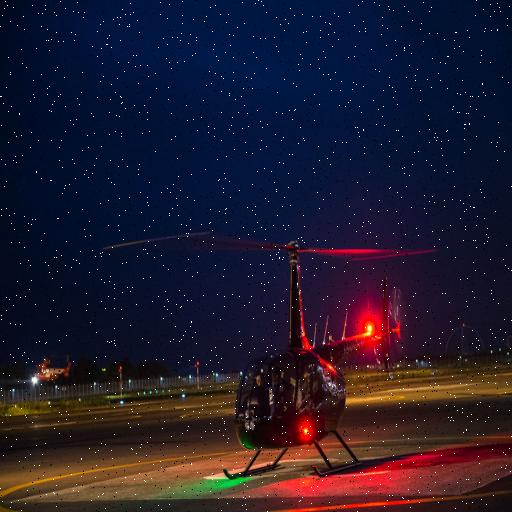helicopter: (100, 161, 452, 430)
